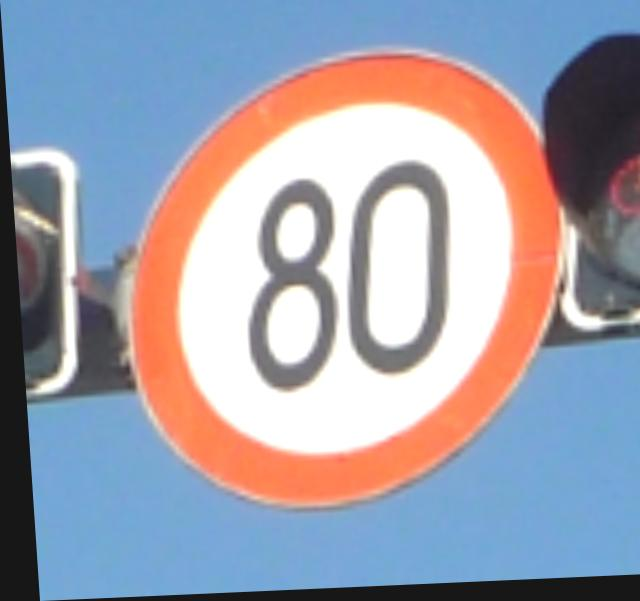limit80: (91, 32, 582, 533)
